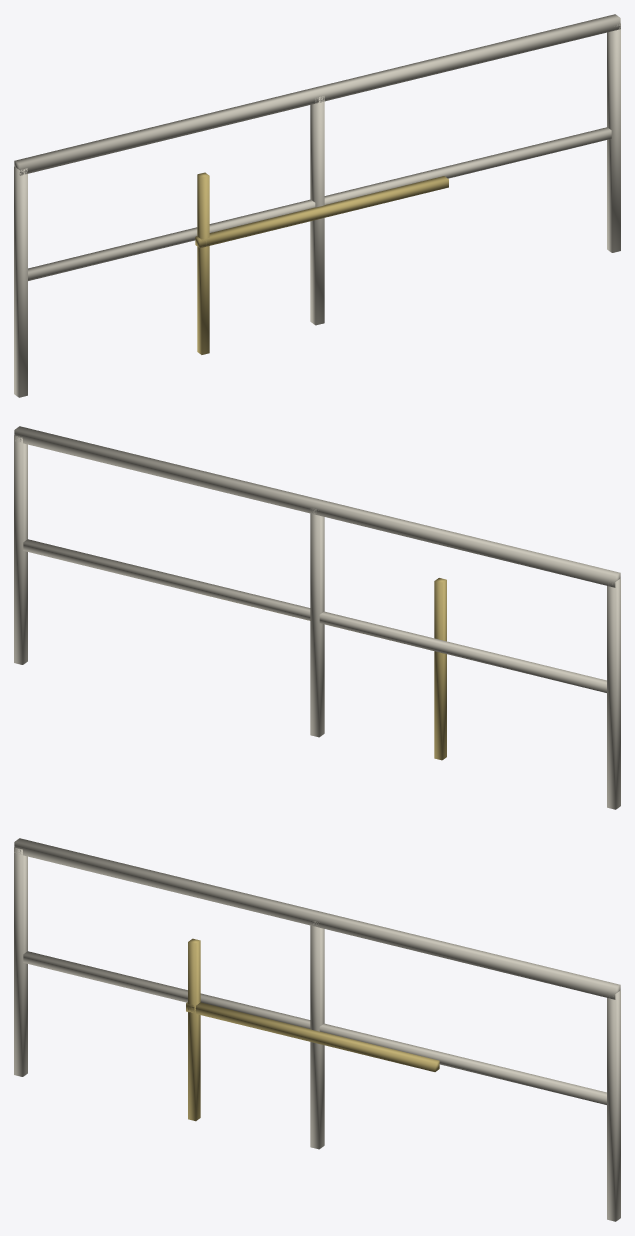
The model's file is civic_gate_l300_h110.glb.
3 views of the same model, one above another, from view 1: azimuth 30°, elevation 25°; view 2: azimuth 150°, elevation 25°; view 3: azimuth 330°, elevation 25° (orthographic).
Parts seen in each view (by area): view 1: world; view 2: world; view 3: world.
Part boxes in pixels (x1=…): world: x1=14, y1=14, x2=620, y2=397; world: x1=14, y1=426, x2=620, y2=809; world: x1=14, y1=838, x2=620, y2=1221.
Bounding box in the file's own units: 3.05 × 1.13 × 0.0825.
